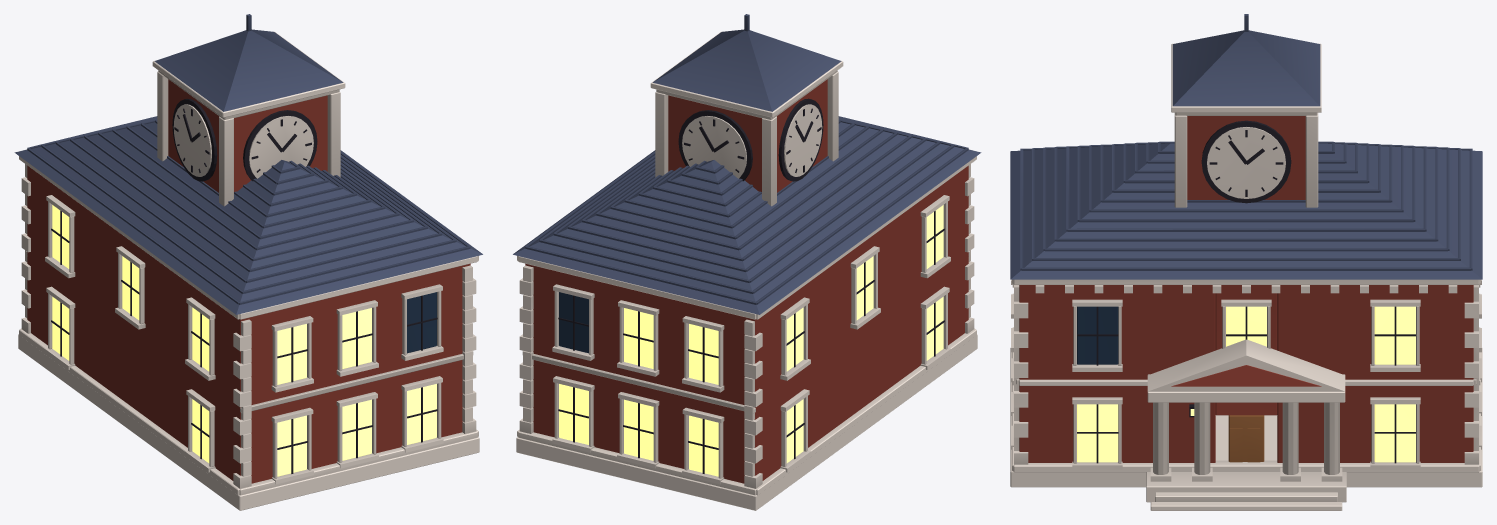
3 renders of one model, left to right at view 1: azimuth 30°, elevation 25°; view 2: azimuth 150°, elevation 25°; view 3: azimuth 270°, elevation 25°, orthographic. The views are drawn at different scales.
Visible parts, largest first — view 1: roof_pal_denim, body_pal_brick, body_pal_picketWhite, body_emi_windowGlow, body_pal_uiDark, body_pal_blueTrim; view 2: roof_pal_denim, body_pal_brick, body_pal_picketWhite, body_emi_windowGlow, body_pal_uiDark, body_pal_blueTrim; view 3: roof_pal_denim, body_pal_picketWhite, body_pal_brick, body_emi_windowGlow, body_pal_uiDark, body_pal_blueTrim, door_front_pal_woodWarm.
Boxes of the visible parts, x1,y1,x2,y2 form: roof_pal_denim: [14, 14, 482, 314]; body_pal_brick: [27, 79, 470, 483]; body_pal_picketWhite: [18, 31, 479, 510]; body_emi_windowGlow: [52, 205, 436, 476]; body_pal_uiDark: [51, 98, 437, 473]; body_pal_blueTrim: [407, 292, 436, 353]; roof_pal_denim: [513, 14, 981, 314]; body_pal_brick: [525, 79, 968, 483]; body_pal_picketWhite: [516, 31, 977, 510]; body_emi_windowGlow: [559, 205, 943, 476]; body_pal_uiDark: [558, 98, 944, 473]; body_pal_blueTrim: [559, 292, 588, 353]; roof_pal_denim: [1010, 14, 1482, 279]; body_pal_picketWhite: [1010, 43, 1482, 510]; body_pal_brick: [1019, 116, 1473, 462]; body_emi_windowGlow: [1077, 306, 1415, 462]; body_pal_uiDark: [1077, 120, 1415, 463]; body_pal_blueTrim: [1077, 306, 1118, 364]; door_front_pal_woodWarm: [1228, 415, 1264, 462].
Size of the model in its own units: 12.05 by 15.35 by 16.
